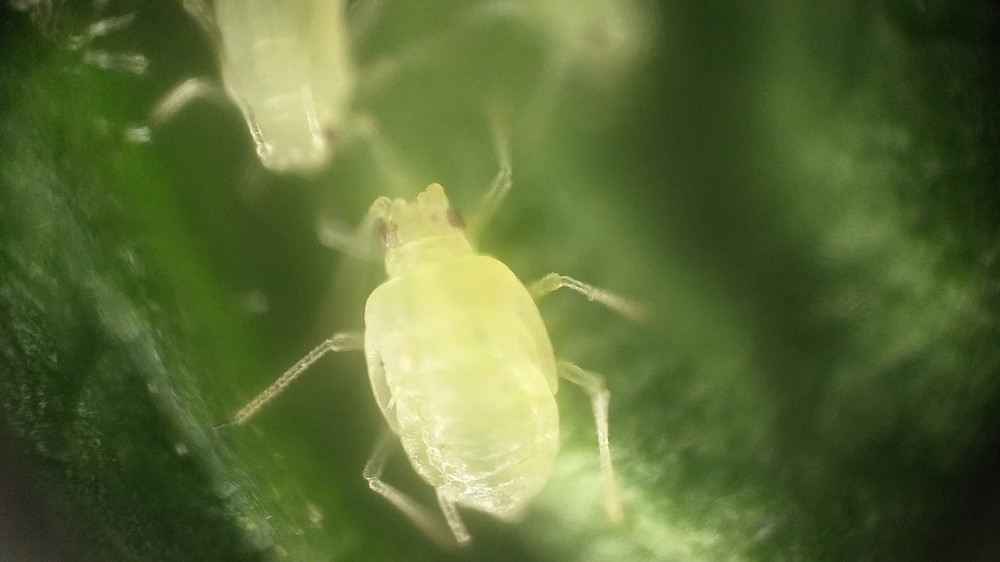Pulgon: (252, 170, 675, 549), (136, 1, 438, 201)
